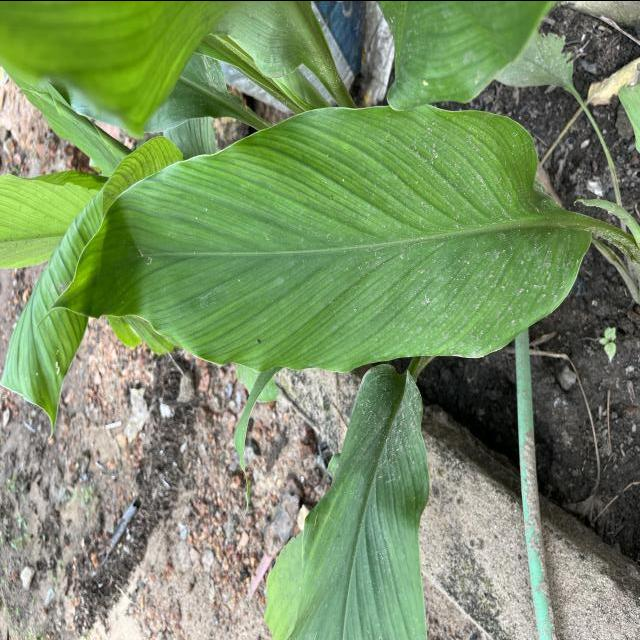Curcuma longa: (29, 97, 596, 377)
